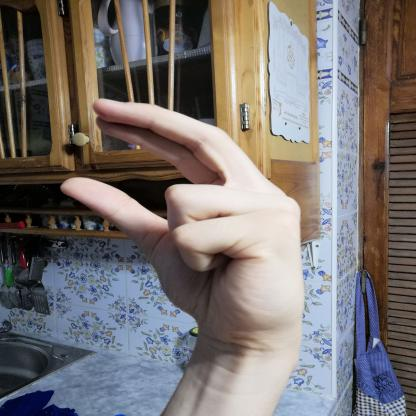DHELL: (47, 89, 323, 346)
